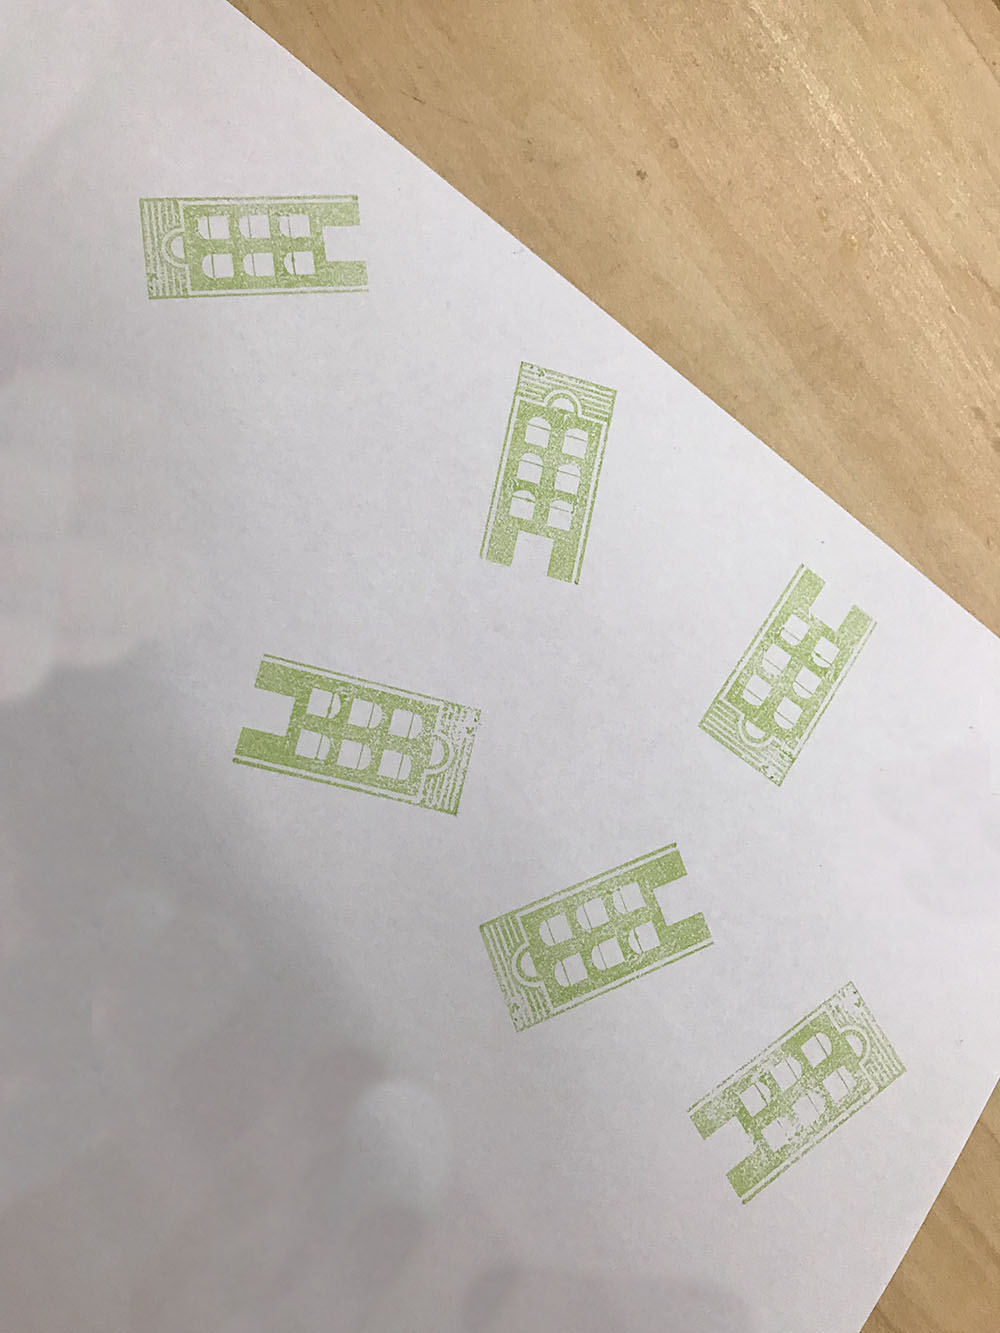build: (203, 638, 511, 838), (675, 528, 889, 804), (678, 974, 914, 1219), (459, 838, 729, 1042), (111, 164, 388, 328), (479, 354, 618, 604)
